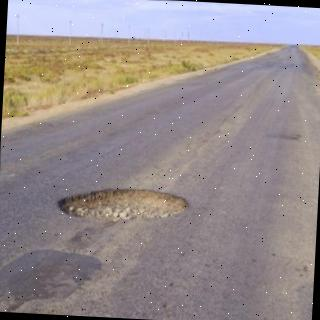pothole: (58, 189, 189, 222)
